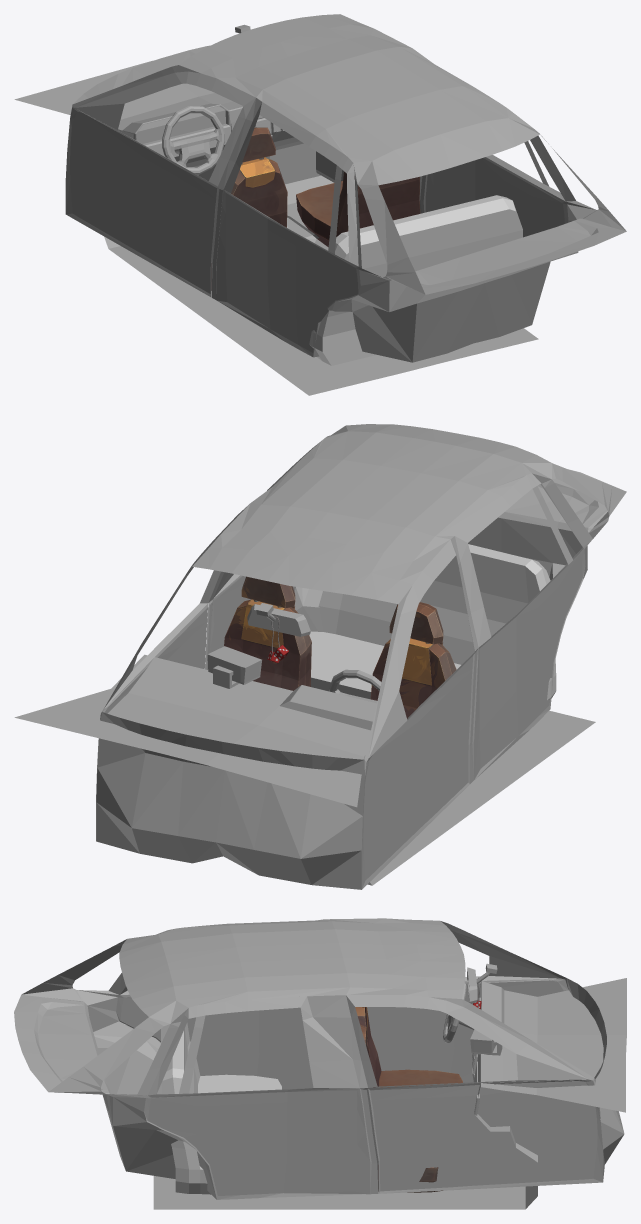
Rendered from coche001_fbx.fbx.
The picture shows the model from 3 angles, top to bottom: view 1: azimuth 30°, elevation 25°; view 2: azimuth 150°, elevation 25°; view 3: azimuth 270°, elevation 25°; orthographic projection. The views are drawn at different scales.
Visible parts, largest first — view 1: Exterior1, parte_delantera, pCube5, pCube3 (×2), pTorus2, polySurface94, pCube4; view 2: Exterior1, parte_delantera, pCube5, pCube3 (×2), pCube4 (×2), polySurface94 (×2), pasted__pCube1, pCube8, pTorus2; view 3: Exterior1, parte_delantera, pCube5, pCube3, pasted__pCube1.
Boxes of the visible parts, x1=… form: Exterior1: x1=65, y1=14, x2=626, y2=362; parte_delantera: x1=14, y1=60, x2=538, y2=395; pCube5: x1=309, y1=195, x2=522, y2=365; pCube3 (×2): x1=211, y1=159, x2=420, y2=290; pTorus2: x1=162, y1=106, x2=224, y2=174; polySurface94: x1=239, y1=157, x2=275, y2=187; pCube4: x1=242, y1=127, x2=275, y2=162; Exterior1: x1=96, y1=424, x2=626, y2=889; parte_delantera: x1=14, y1=654, x2=595, y2=885; pCube5: x1=309, y1=544, x2=556, y2=700; pCube3 (×2): x1=224, y1=599, x2=456, y2=718; pCube4 (×2): x1=241, y1=576, x2=443, y2=644; polySurface94 (×2): x1=241, y1=599, x2=442, y2=685; pasted__pCube1: x1=207, y1=646, x2=261, y2=684; pCube8: x1=247, y1=604, x2=310, y2=636; pTorus2: x1=329, y1=669, x2=381, y2=702; Exterior1: x1=14, y1=918, x2=624, y2=1199; parte_delantera: x1=153, y1=978, x2=626, y2=1209; pCube5: x1=161, y1=1022, x2=281, y2=1194; pCube3: x1=355, y1=1007, x2=462, y2=1087; pasted__pCube1: x1=470, y1=1029, x2=495, y2=1054.
Bounding box in the file's own units: 1239 × 877 × 2301.
